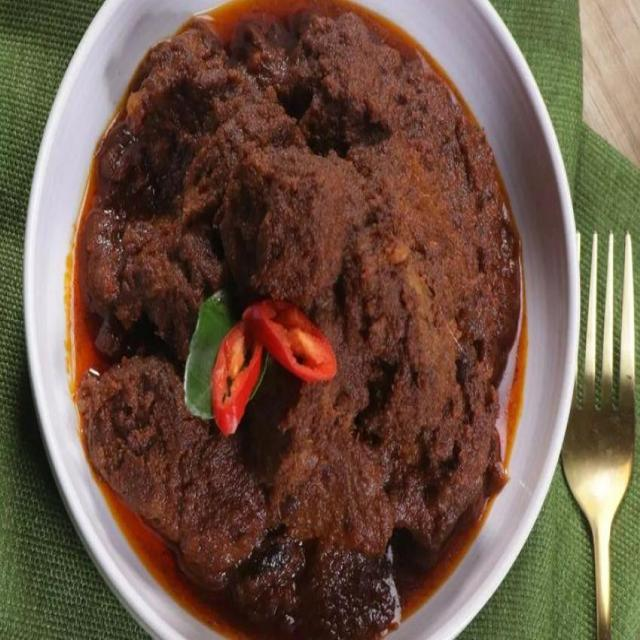Rendang: (61, 18, 554, 640)
